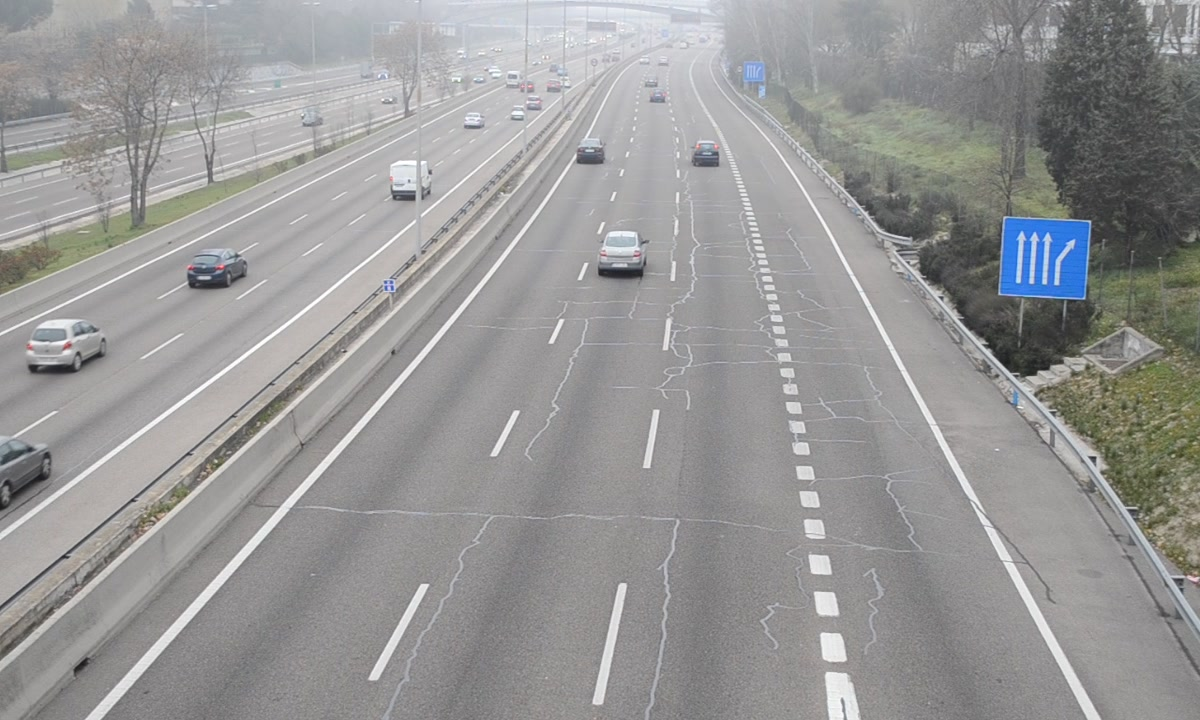car: (600, 231, 644, 273), (692, 140, 721, 168), (576, 139, 604, 165)
